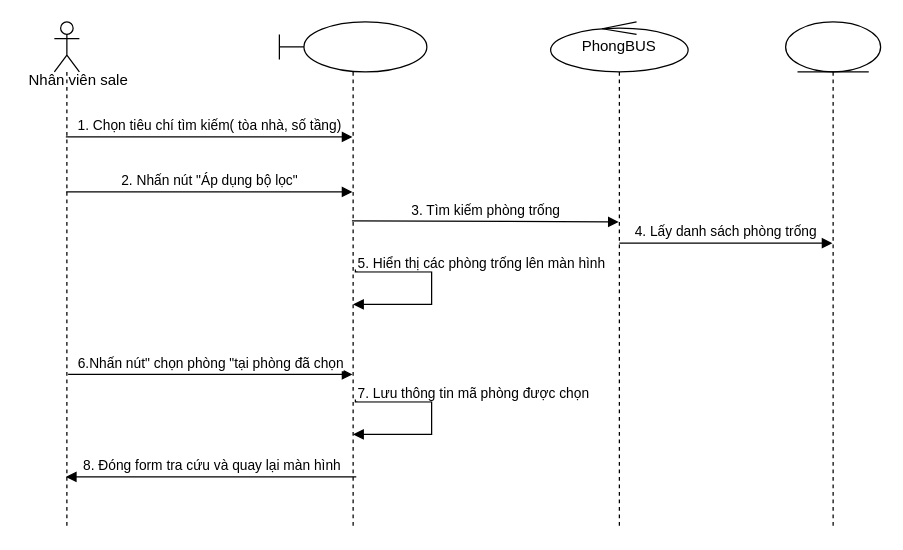
Some shapes in this 903 by 550 pixel diagram are drawn without their labels. The box of each missing label's shape, as (x1, y1, x2, y2) in pixels:
frmTraCuuPhong: (278, 21, 427, 528)
Phong: (784, 21, 881, 528)
